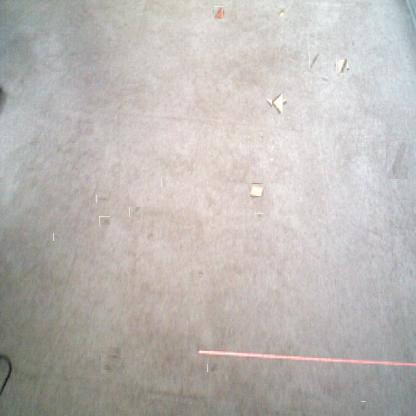dirty: (268, 96, 286, 112), (248, 183, 264, 197), (335, 59, 349, 72), (213, 7, 224, 19), (278, 8, 286, 18)
mark: (386, 140, 408, 180), (99, 348, 123, 372), (309, 50, 320, 70), (130, 207, 140, 218), (321, 74, 331, 84), (100, 215, 109, 226), (208, 364, 218, 373), (96, 195, 107, 203), (146, 229, 154, 239), (408, 268, 414, 278), (53, 233, 60, 241), (196, 270, 204, 277), (256, 212, 263, 220), (360, 401, 366, 410), (161, 177, 166, 187), (352, 40, 358, 48)
